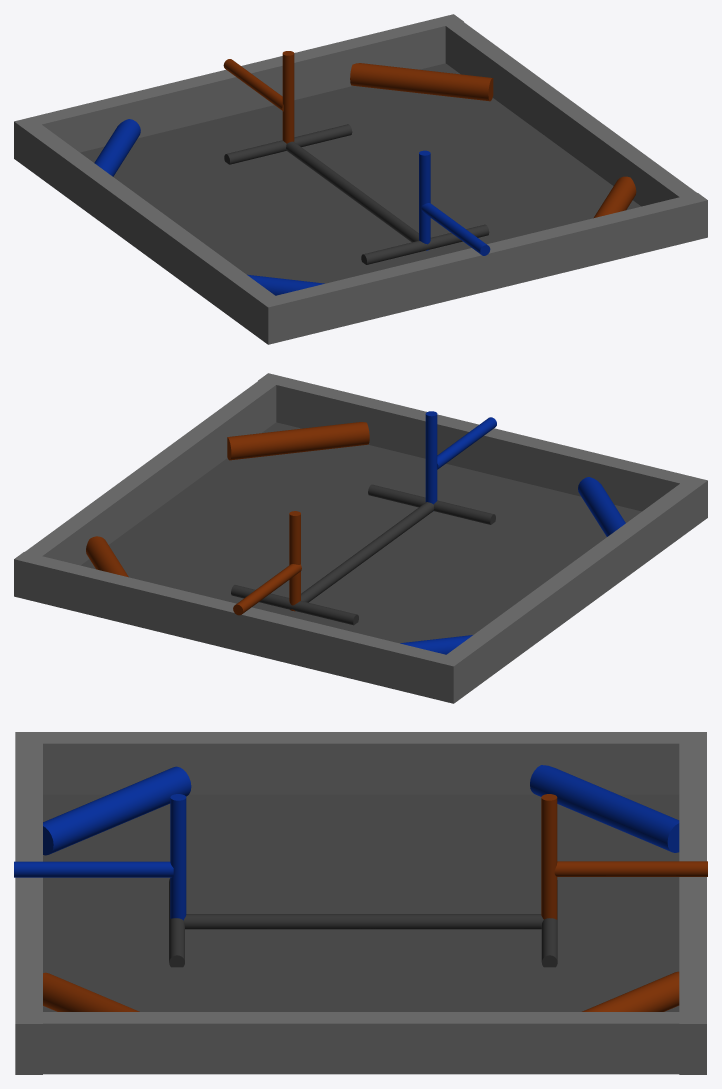
The model's file is ObstacleArea.fbx.
3 views of the same model, one above another, from view 1: azimuth 30°, elevation 25°; view 2: azimuth 150°, elevation 25°; view 3: azimuth 270°, elevation 25° (orthographic). The views are drawn at different scales.
Parts seen in each view (by area): view 1: Base, Wall1, Wall, Wall3, Wall2, CornerTube, CollumnBase, CornerTube1, CollumnBase1, CollumnTube1, CollumnTube, CenterTube2 (+5 smaller); view 2: Base, Wall, Wall1, Wall3, Wall2, CornerTube3, CollumnBase1, CornerTube2, CollumnBase, CollumnTube, CollumnTube1, CenterTube2 (+5 smaller); view 3: Base, Wall2, Wall3, Wall1, Wall, CornerTube1, CornerTube2, CenterTube2, CenterTube3, CenterTube, CenterTube1, CollumnTube1 (+5 smaller).
Boxes of the visible parts, x1,y1,x2,y2 form: Base: [80, 63, 640, 283]; Wall1: [260, 193, 707, 344]; Wall: [14, 14, 463, 152]; Wall3: [14, 117, 284, 344]; Wall2: [437, 14, 696, 206]; CornerTube: [350, 63, 493, 101]; CollumnBase: [224, 124, 352, 164]; CornerTube1: [94, 119, 140, 176]; CollumnBase1: [361, 224, 489, 264]; CollumnTube1: [282, 51, 294, 143]; CollumnTube: [419, 150, 430, 250]; CenterTube2: [347, 186, 418, 242]; Base: [81, 422, 641, 643]; Wall: [14, 552, 462, 703]; Wall1: [258, 373, 707, 511]; Wall3: [437, 476, 707, 703]; Wall2: [25, 373, 285, 565]; CornerTube3: [227, 422, 369, 460]; CollumnBase1: [368, 484, 495, 524]; CornerTube2: [578, 477, 625, 536]; CollumnBase: [231, 585, 358, 625]; CollumnTube: [425, 411, 437, 504]; CollumnTube1: [289, 511, 300, 611]; CenterTube2: [363, 502, 434, 560]; Base: [43, 794, 679, 1011]; Wall2: [38, 1012, 706, 1074]; Wall3: [15, 732, 706, 794]; Wall1: [15, 732, 42, 1074]; Wall: [679, 732, 706, 1074]; CornerTube1: [530, 765, 679, 852]; CornerTube2: [43, 766, 191, 855]; CenterTube2: [184, 914, 375, 929]; CenterTube3: [357, 914, 543, 929]; CenterTube: [14, 861, 173, 877]; CenterTube1: [554, 861, 707, 876]; CollumnTube1: [541, 794, 557, 919].
Size of the model in its own units: 8.65 by 2 by 8.7.
